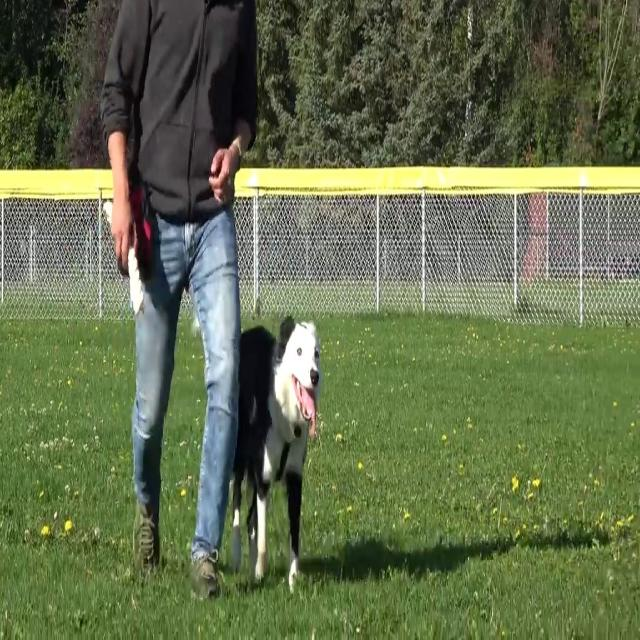Unleashed_Dog: (172, 204, 321, 594)
